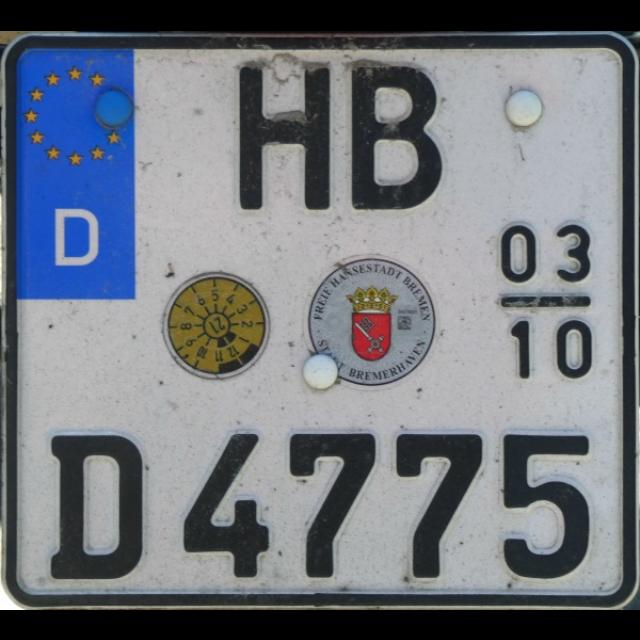d_license_plate: (11, 40, 632, 604)
